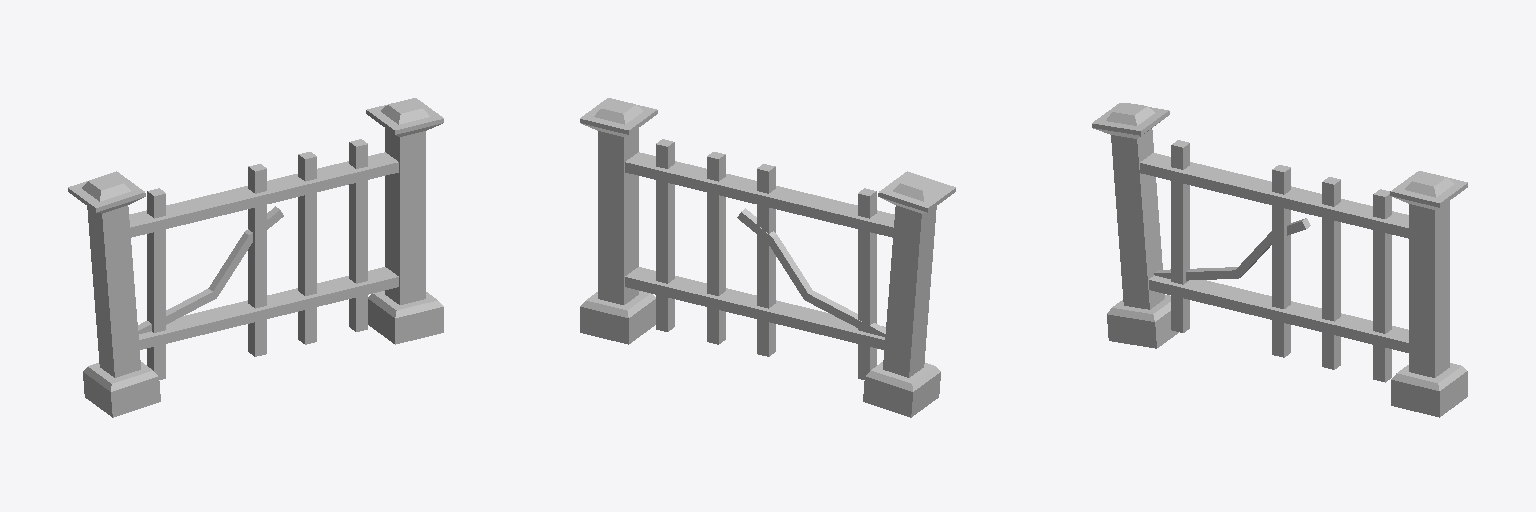
Rendered from Fence_Cemetery4.obj.
3 renders of one model, left to right at view 1: azimuth 30°, elevation 25°; view 2: azimuth 150°, elevation 25°; view 3: azimuth 330°, elevation 25°, orthographic.
Visible parts, largest first — view 1: Fence_Cmentary_04; view 2: Fence_Cmentary_04; view 3: Fence_Cmentary_04.
Part boxes in pixels (x1,y1,x2,y2): Fence_Cmentary_04: (68, 98, 443, 417); Fence_Cmentary_04: (580, 98, 955, 417); Fence_Cmentary_04: (1092, 103, 1467, 417).
Bounding box in the file's own units: 30.2 × 18.75 × 4.29.